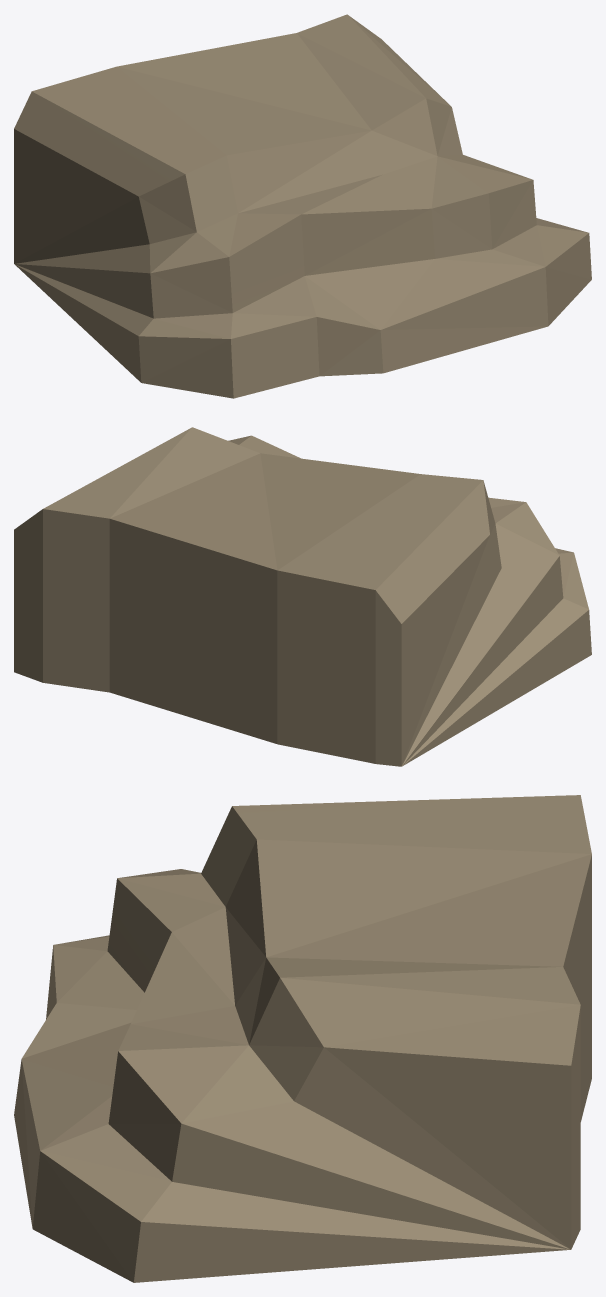
The model's file is SM_Bld_House_StepsSmall_01.glb.
3 views of the same model, one above another, from view 1: azimuth 30°, elevation 25°; view 2: azimuth 150°, elevation 25°; view 3: azimuth 270°, elevation 25° (orthographic). The views are drawn at different scales.
Parts seen in each view (by area): view 1: SM_Bld_House_StepsSmall_01; view 2: SM_Bld_House_StepsSmall_01; view 3: SM_Bld_House_StepsSmall_01.
Boxes of the visible parts, x1,y1,x2,y2 form: SM_Bld_House_StepsSmall_01: [14, 14, 591, 398]; SM_Bld_House_StepsSmall_01: [14, 427, 591, 766]; SM_Bld_House_StepsSmall_01: [14, 795, 591, 1282].
Size of the model in its own units: 1.35 by 0.4924 by 1.12.
1 material, 1 textured.
